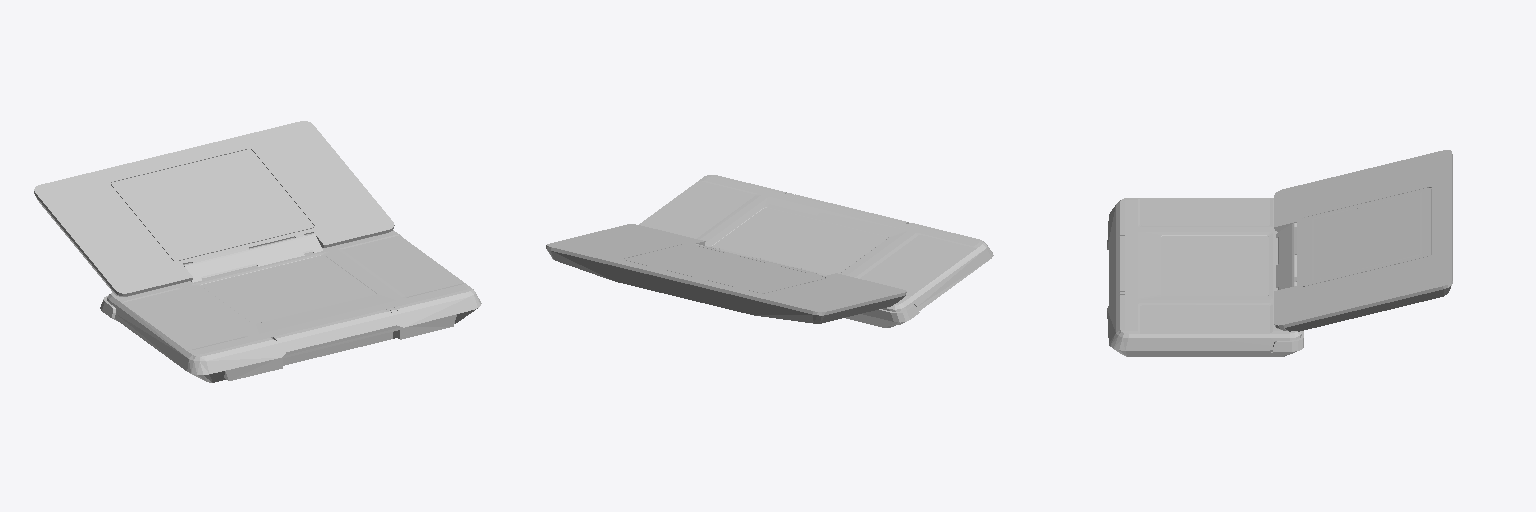
Rendered from course_model_new.obj.
The picture shows the model from 3 angles: view 1: azimuth 30°, elevation 25°; view 2: azimuth 150°, elevation 25°; view 3: azimuth 270°, elevation 25°; orthographic projection.
Parts seen in each view (by area): view 1: course_model:Mesh; view 2: course_model:Mesh; view 3: course_model:Mesh.
Part boxes in pixels (x1,y1,x2,y2): course_model:Mesh: (34,121,481,382); course_model:Mesh: (546,175,993,327); course_model:Mesh: (1107,150,1452,356).
Size of the model in its own units: 14.01 by 3.6 by 14.16.